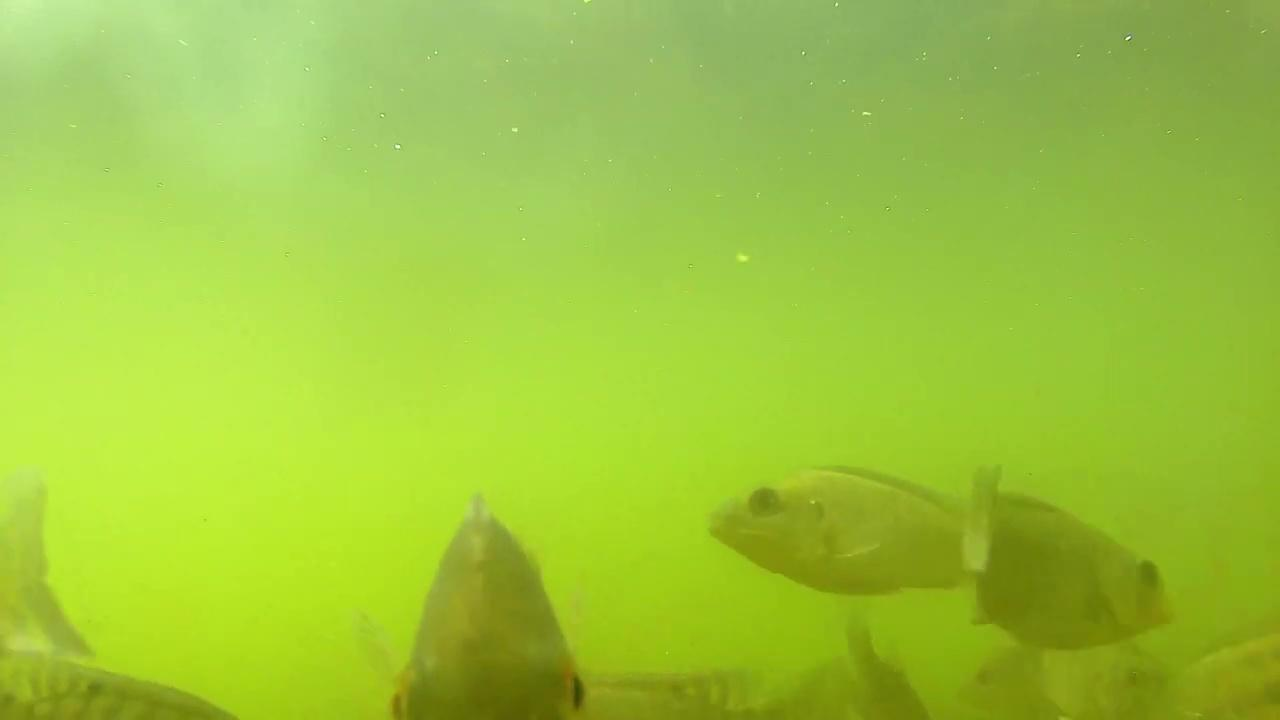Tilapia: (707, 436, 996, 600), (387, 498, 592, 720), (967, 468, 1176, 648)
